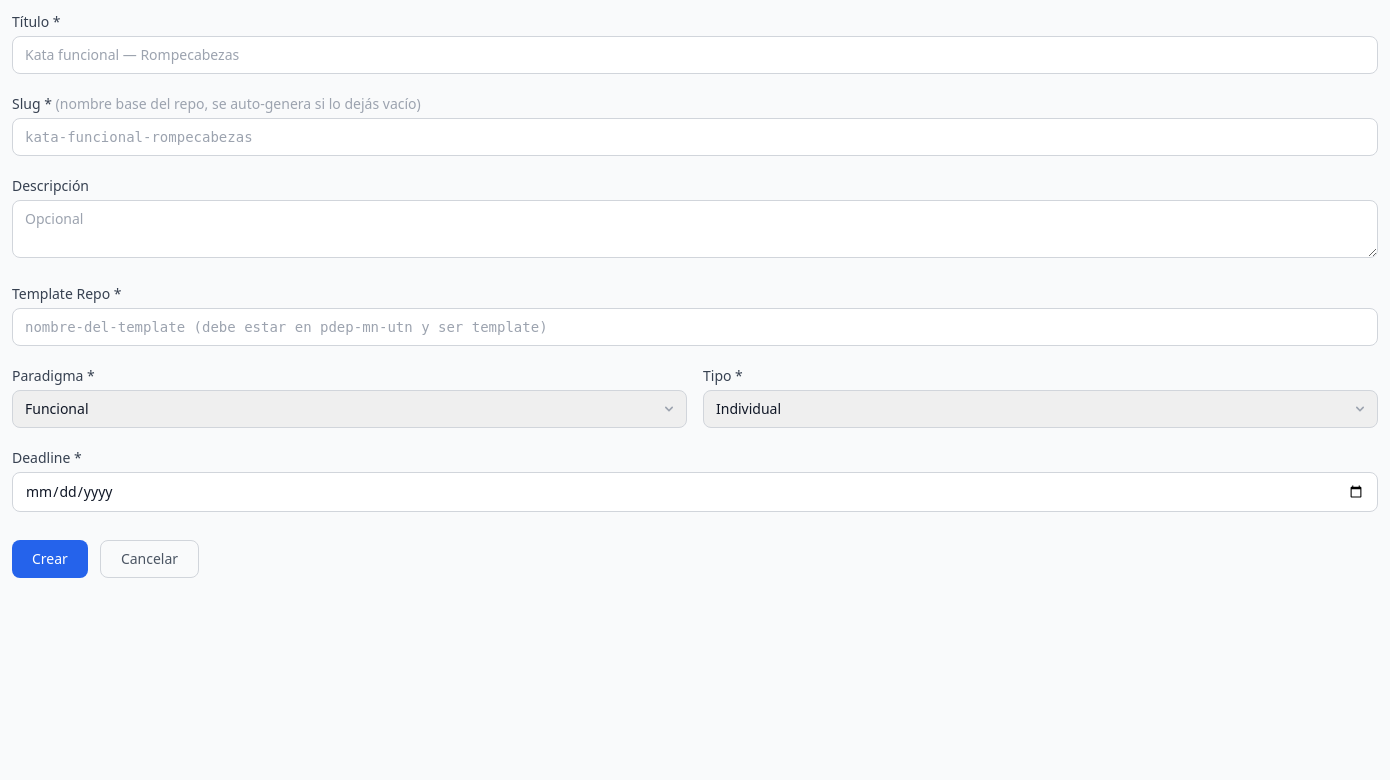
Test: AssignmentForm › auto-generación de slug › genera el slug automáticamente al escribir el título
Type "Kata Funcional" into the field named "titulo" at point(695, 55), box [12,36,1378,74]
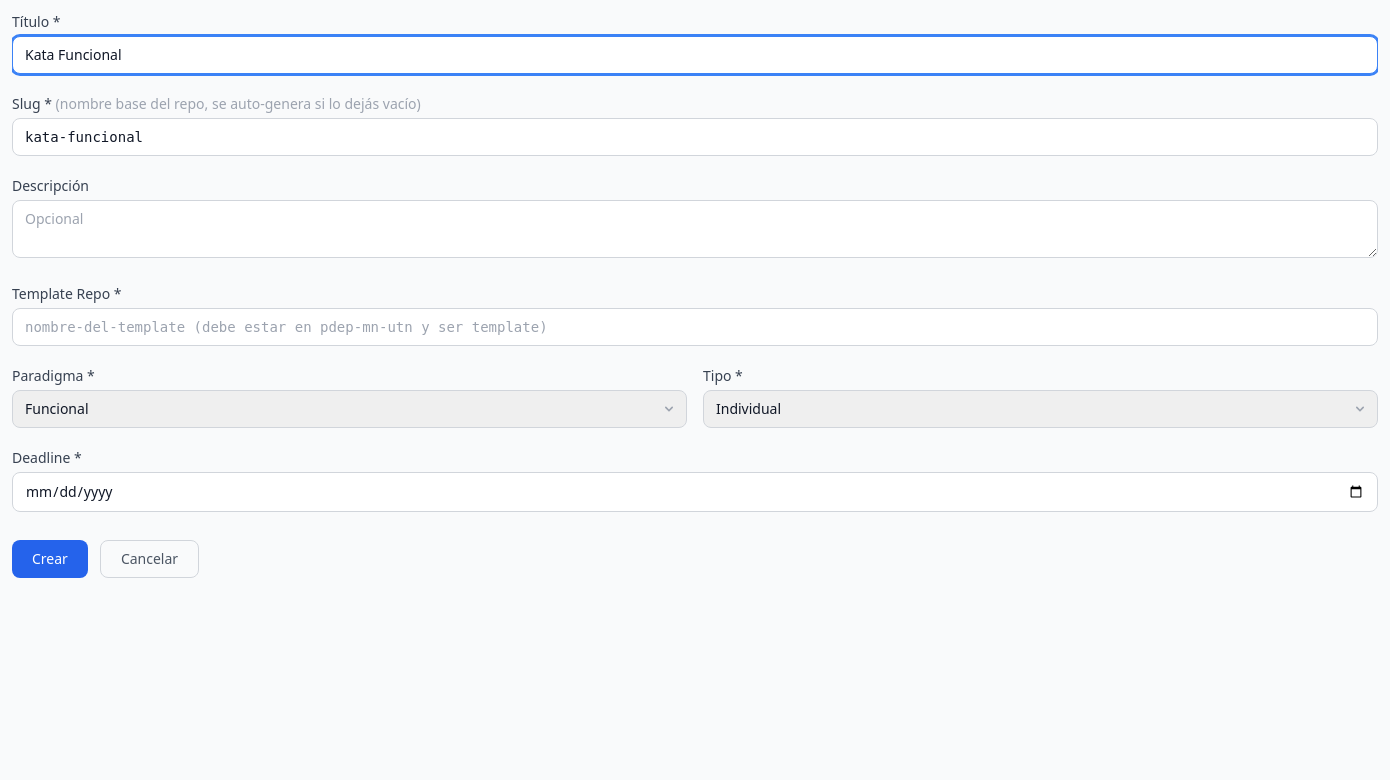
Check: the field named "slug" below "Slug *" holds "kata-funcional", box [12,118,1378,156]
